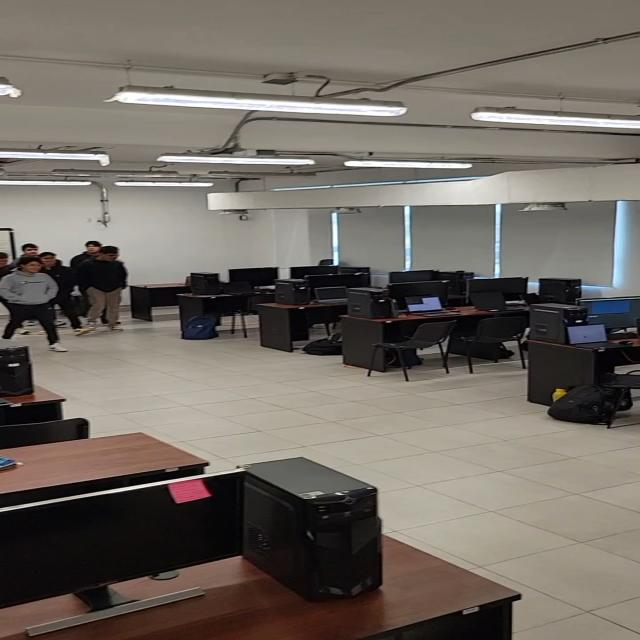Persona: (1, 257, 66, 351), (81, 246, 137, 333), (39, 252, 82, 332)
